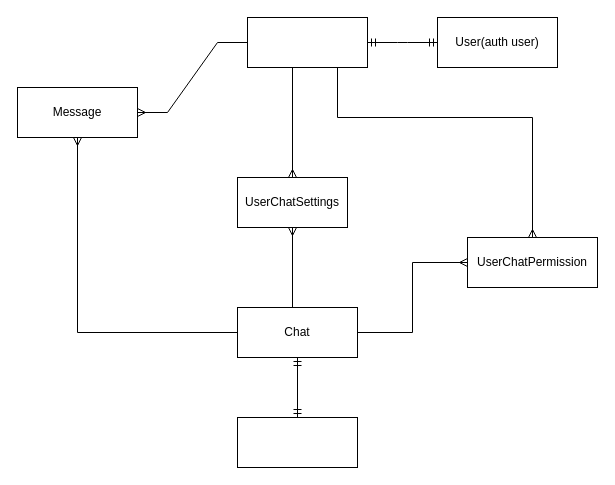
This 615x485 diagram has some shape labels left out. Here are the shapes that lost their labels. From the top down, the centre of each, then its label:
At point (307, 42): "Profile(user to chat)".
At point (297, 442): "ChatSettings".
